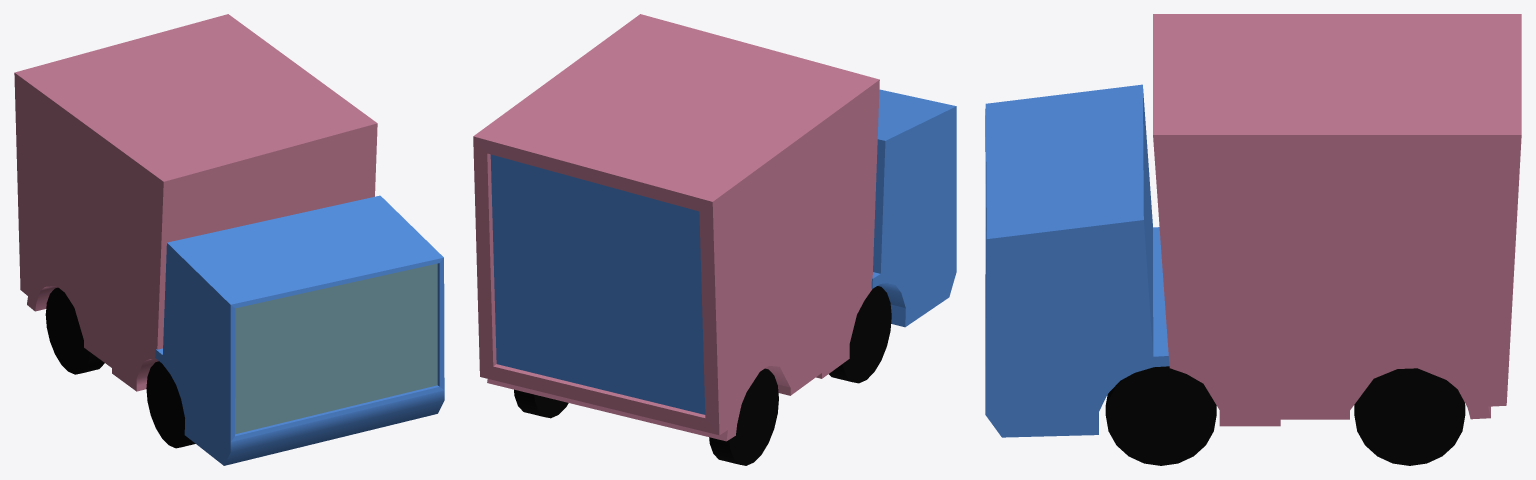
The model's file is cartoon_truck.fbx.
3 renders of one model, left to right at view 1: azimuth 30°, elevation 25°; view 2: azimuth 150°, elevation 25°; view 3: azimuth 270°, elevation 25°, orthographic. The views are drawn at different scales.
Parts seen in each view (by area): view 1: pCube2, pCube1, pCylinder3, pCylinder4; view 2: pCube2, pCube1, pCylinder3, pCylinder4, pCylinder2; view 3: pCube2, pCube1, pCylinder1, pCylinder2.
Boxes of the visible parts, <box> form: pCube2: <box>14,14,377,391</box>; pCube1: <box>155,195,444,465</box>; pCylinder3: <box>45,287,104,374</box>; pCylinder4: <box>146,361,195,448</box>; pCube2: <box>473,14,879,441</box>; pCube1: <box>871,89,956,327</box>; pCylinder3: <box>709,368,778,465</box>; pCylinder4: <box>829,286,891,383</box>; pCylinder2: <box>514,389,568,418</box>; pCube2: <box>1153,14,1521,426</box>; pCube1: <box>985,84,1169,437</box>; pCylinder1: <box>1105,366,1216,465</box>; pCylinder2: <box>1354,368,1465,465</box>.
Size of the model in its own units: 12.42 by 15.16 by 21.76.
